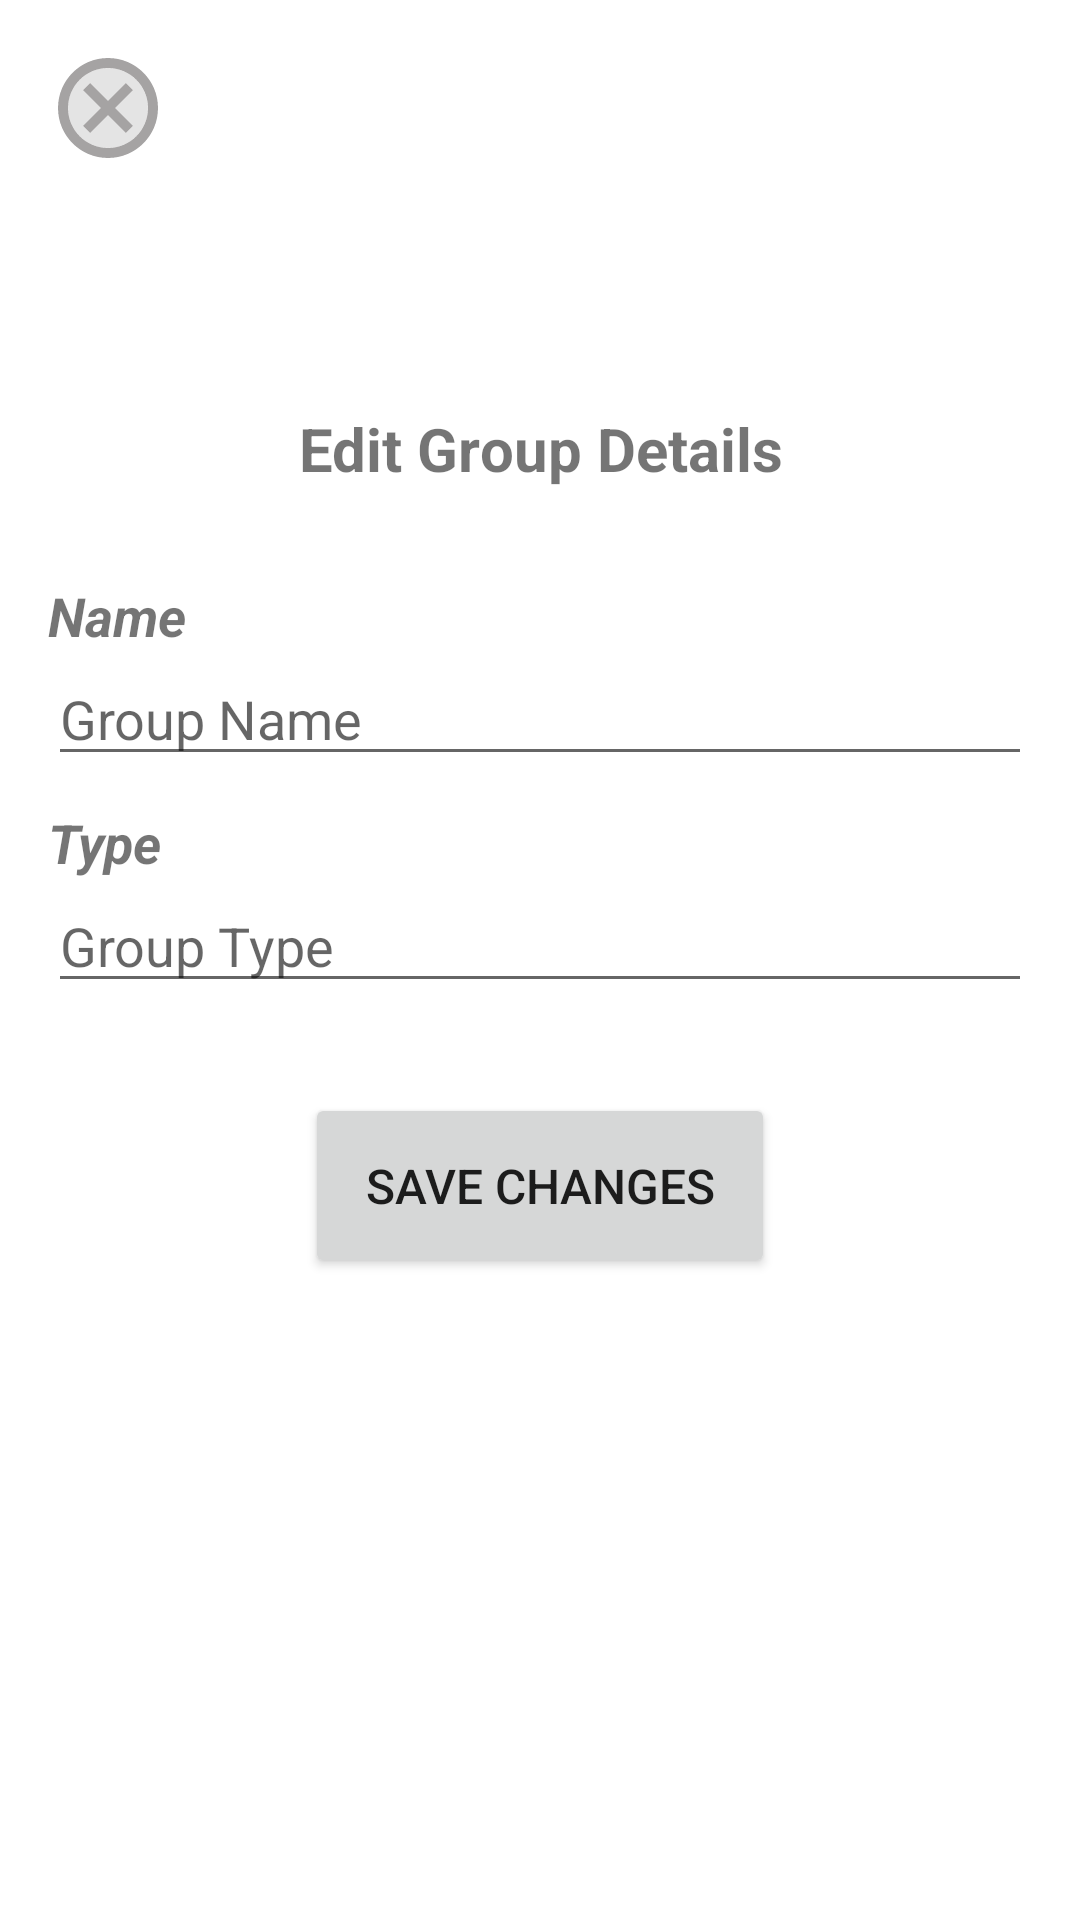

Where icons sit on this 1080 x 1920 app screen, as [x1, y1, x2, y2]:
cancel: [58, 58, 158, 158]
